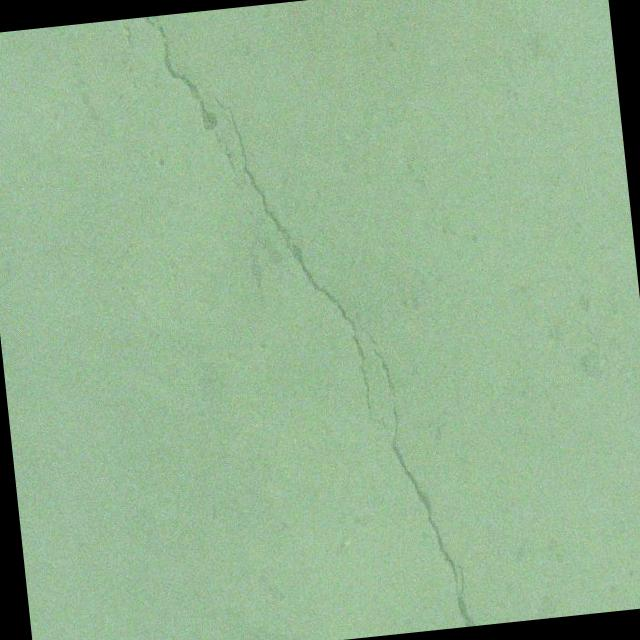crack: (202, 59, 477, 640), (144, 8, 253, 226)
